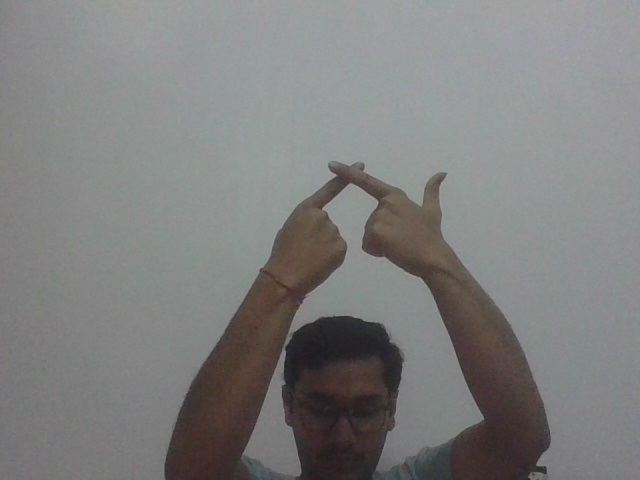J: (274, 157, 450, 285)
